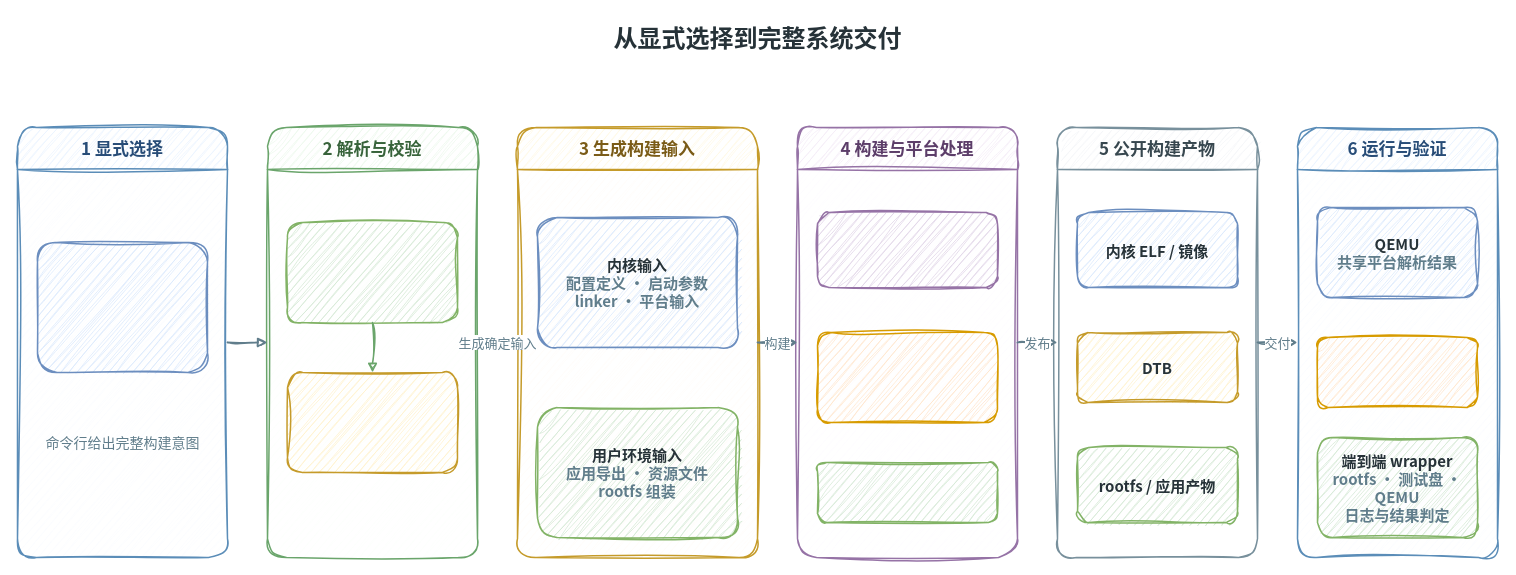
Some shapes in this 1516 by 575 pixel diagram are drawn without their labels. Each missing label, with the centre of its shape:
"Preset 或 Target + Kconfig + Profile" belongs at (x=122, y=307).
"rootfs 镜像" belongs at (x=907, y=492).
"xtask 解析配置关系" belongs at (x=372, y=272).
"交叉校验 目标 · 平台 · 产物要求" belongs at (x=372, y=422).
"内核编译与链接" belongs at (x=907, y=249).
"平台后处理 镜像格式 · DTB" belongs at (x=907, y=377).
"真实硬件 平台所需交付格式" belongs at (x=1397, y=372).
